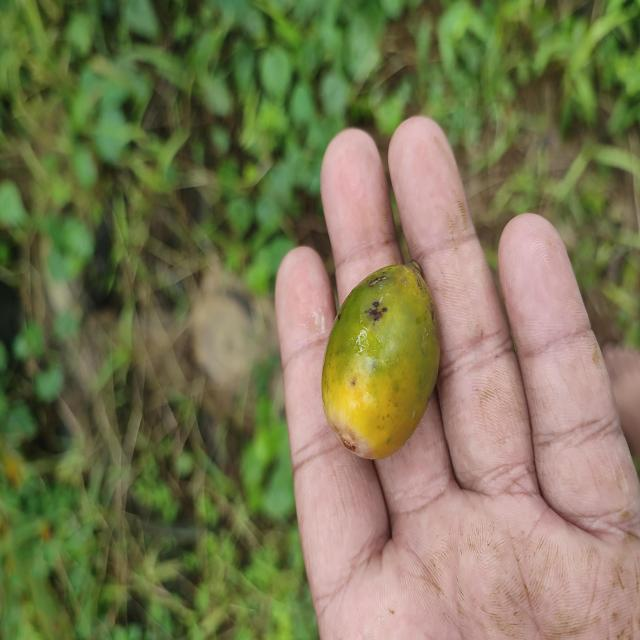damaged: (320, 264, 443, 461)
